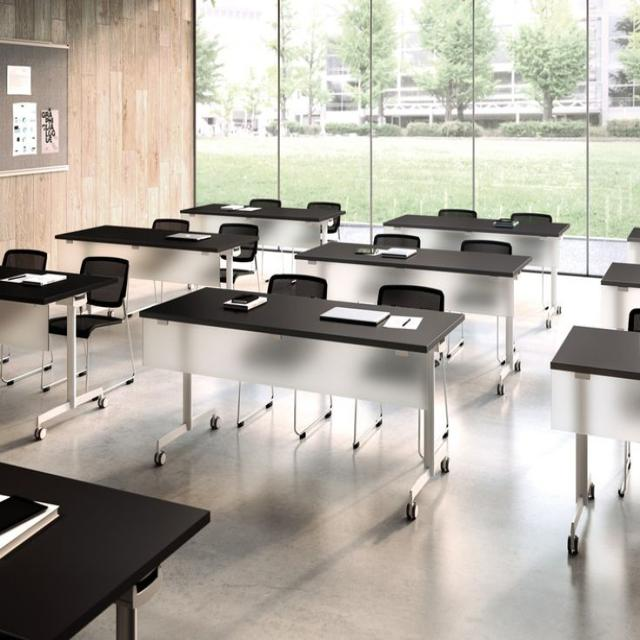obstacle: (138, 285, 464, 519), (0, 460, 210, 639), (293, 240, 532, 396), (382, 213, 570, 328), (0, 264, 117, 439), (179, 201, 344, 282), (600, 260, 639, 331)
